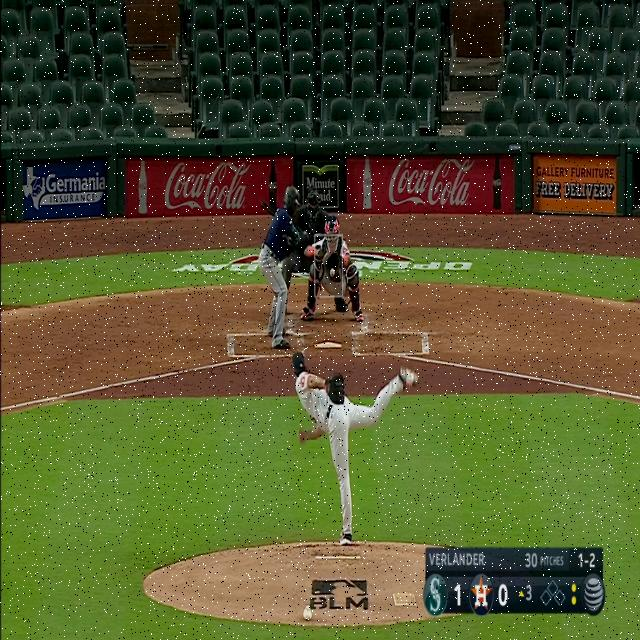baseball: (330, 268, 335, 277)
